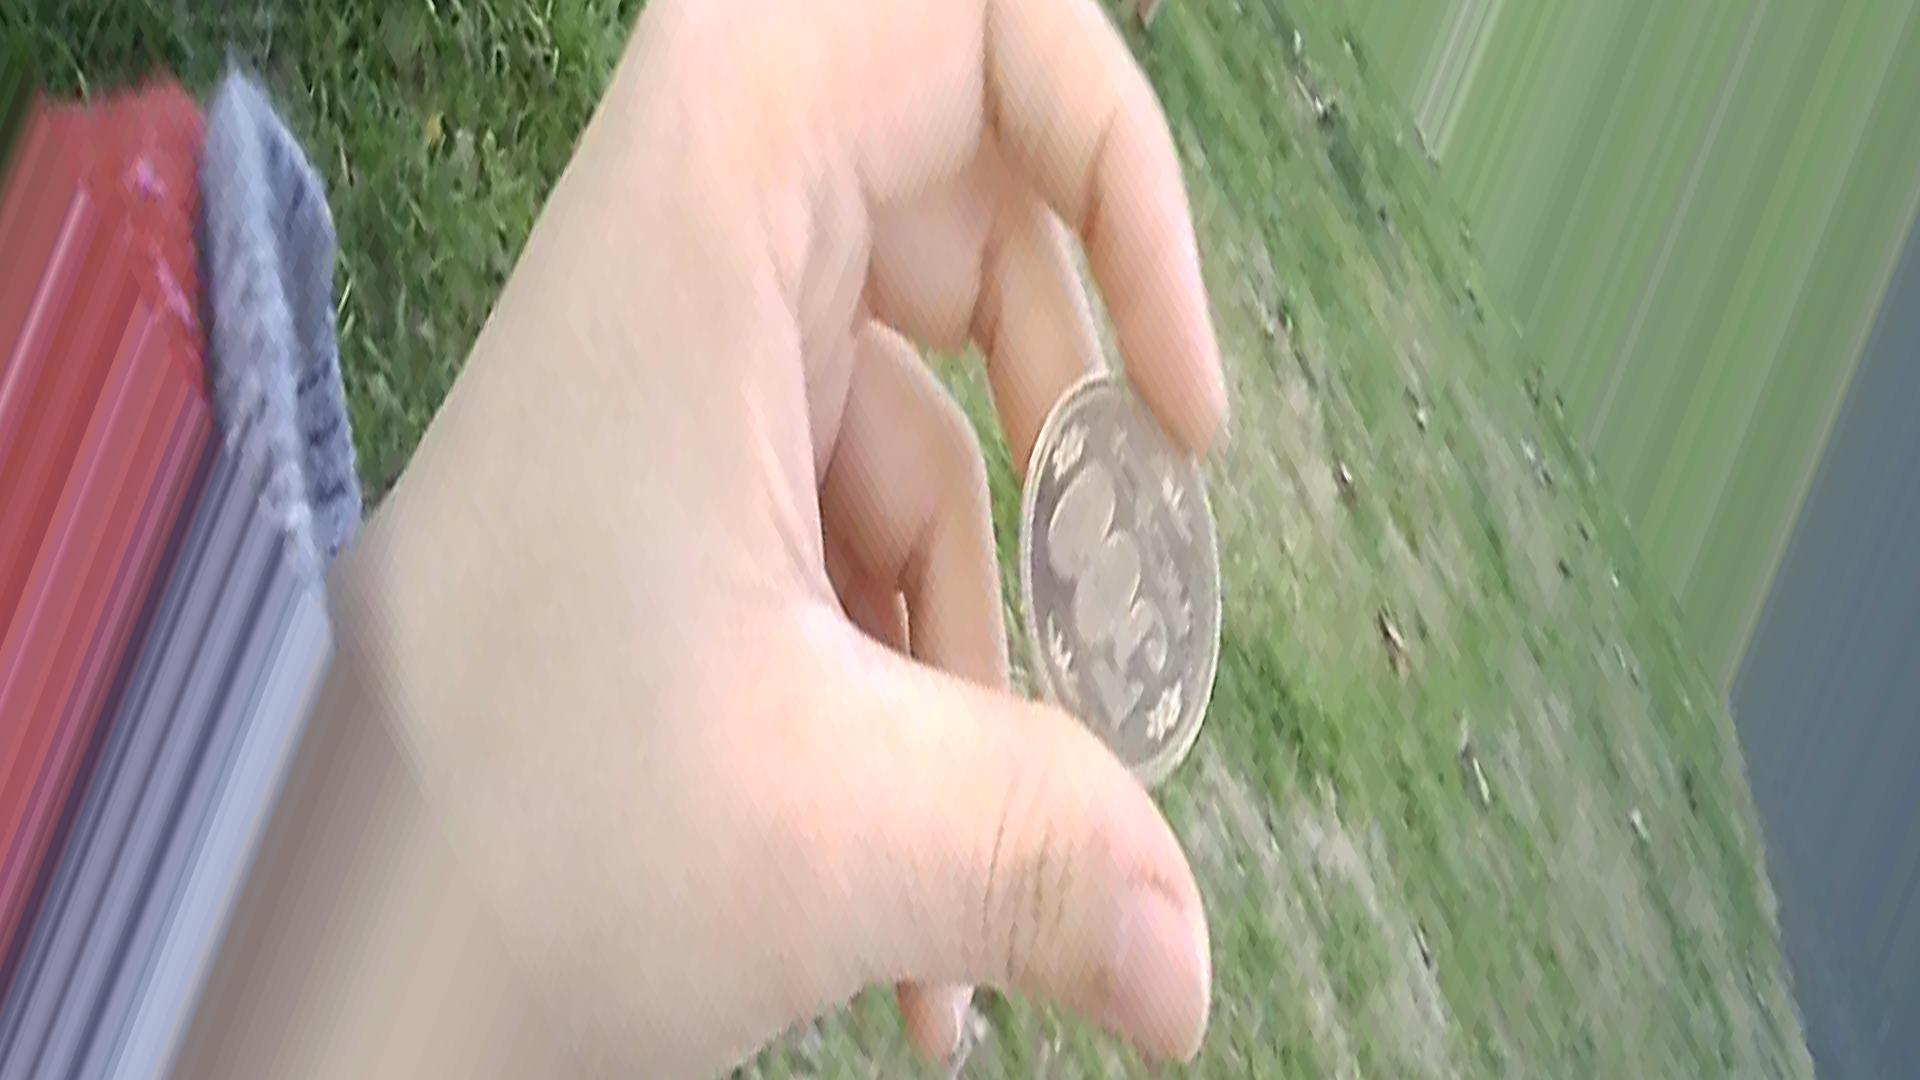500 Yen: (1019, 367, 1224, 766)
